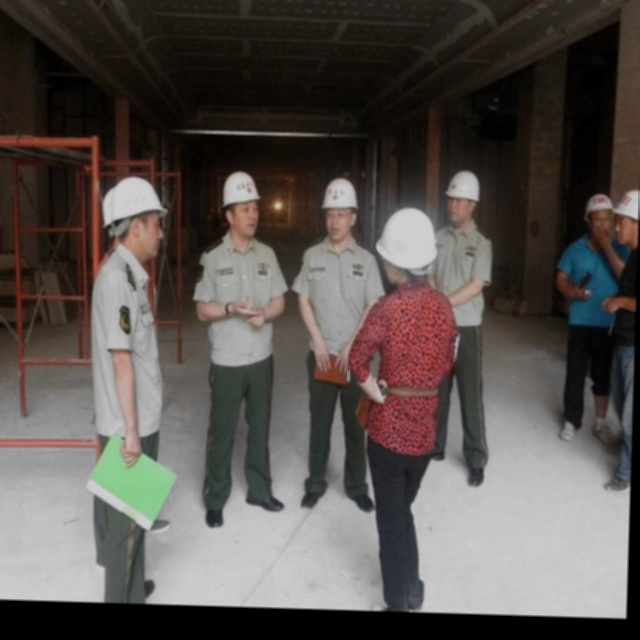Con_Casco: (374, 206, 438, 284), (220, 171, 261, 236), (318, 177, 360, 237)
